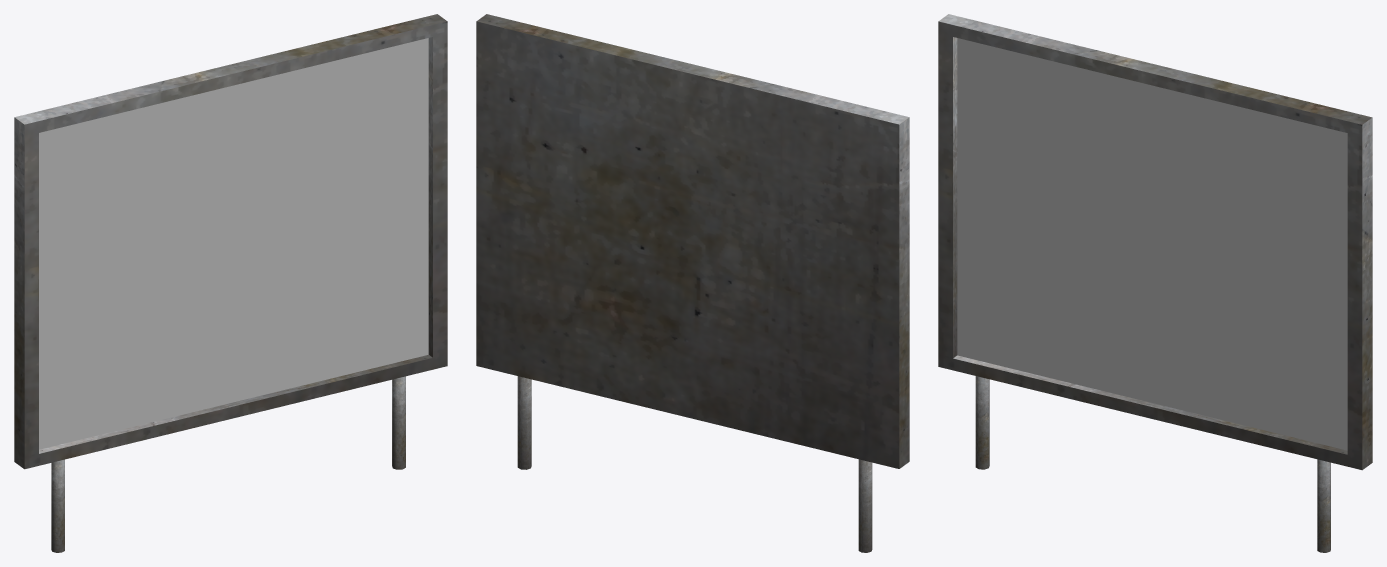
The model's file is SimpleAd.fbx.
3 views of the same model, side by side, from view 1: azimuth 30°, elevation 25°; view 2: azimuth 150°, elevation 25°; view 3: azimuth 330°, elevation 25° (orthographic).
Parts seen in each view (by area): view 1: Simple_AdSign; view 2: Simple_AdSign; view 3: Simple_AdSign.
Boxes of the visible parts, x1,y1,x2,y2 form: Simple_AdSign: (14,14,447,552); Simple_AdSign: (476,14,909,552); Simple_AdSign: (938,14,1372,552).
Size of the model in its own units: 681 by 675 by 28.28.
